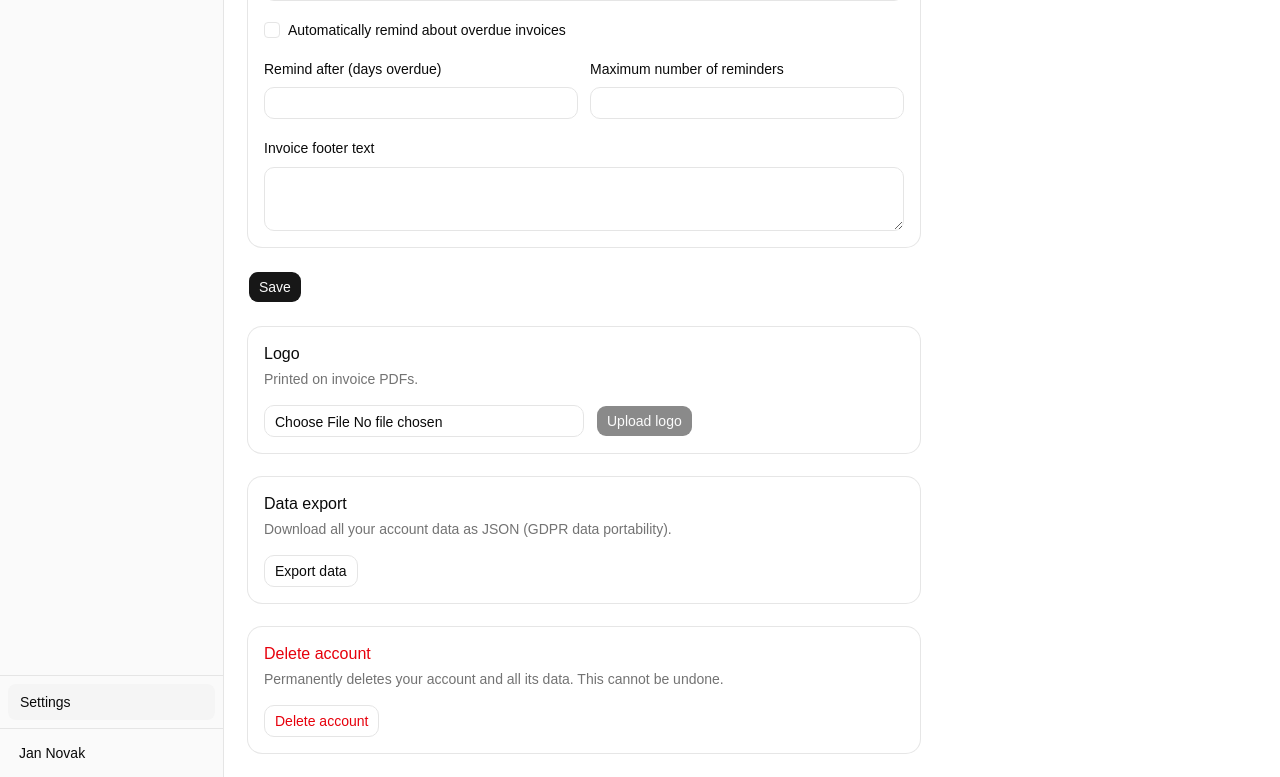
profile settings › requires a password confirmation before deleting the account
(page scrolled)
Click the button "Delete account" at (322, 720), box [264,704,379,736]
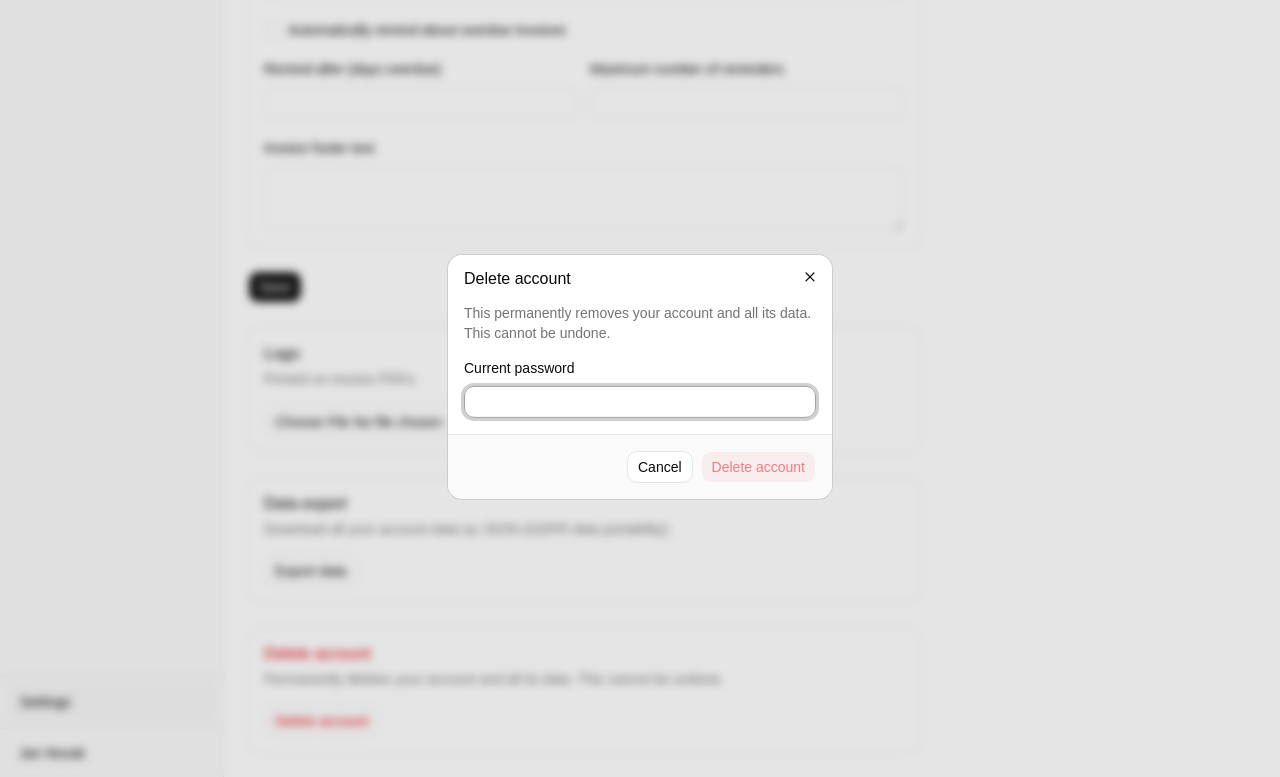
Result: the password field labelled "Current password" is shown
Result: the button "Delete account" is disabled at [701,451,816,483]
Type "secret123" into the password field labelled "Current password" at (640, 402), box [464,386,816,418]
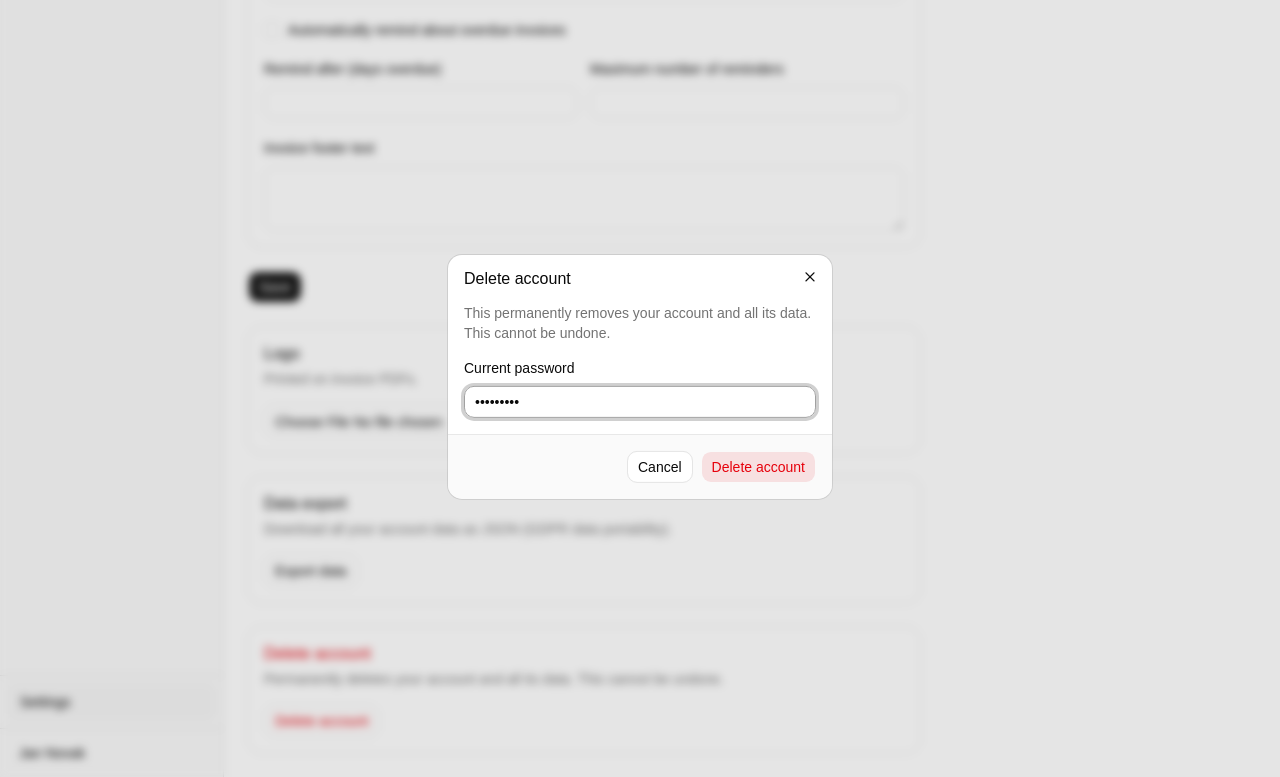
Result: the button "Delete account" is enabled at [701,451,816,483]
